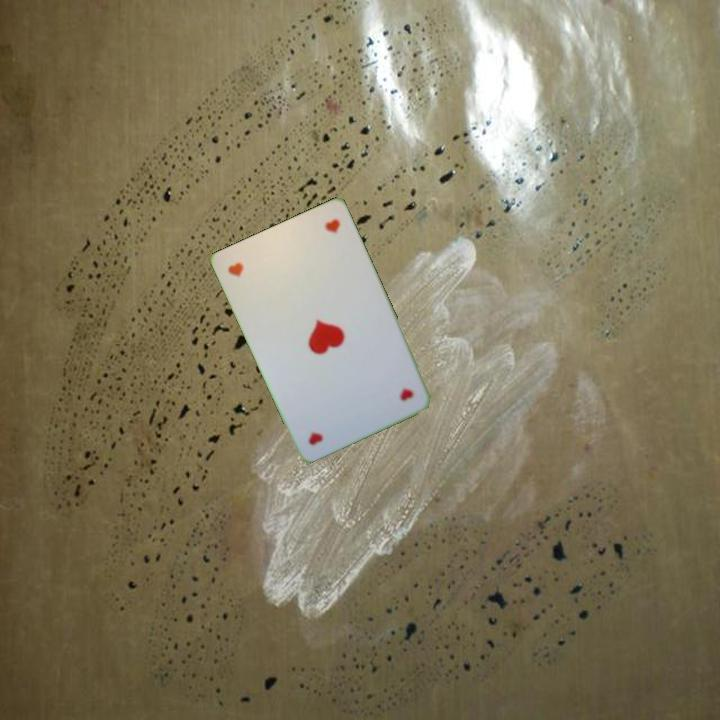h_a.png: (340, 348, 423, 427), (221, 234, 304, 313)
